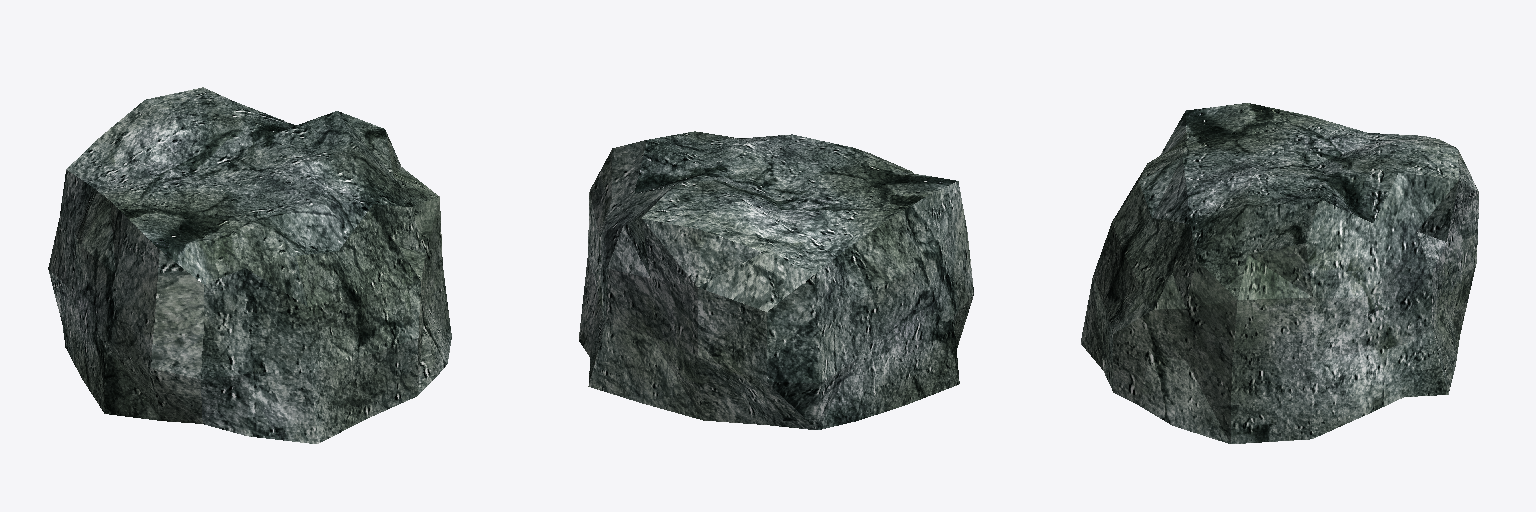
The picture shows the model from 3 angles: view 1: azimuth 30°, elevation 25°; view 2: azimuth 150°, elevation 25°; view 3: azimuth 270°, elevation 25°; orthographic projection.
Visible parts, largest first — view 1: rock:polySurface64 rock:polySurface65 rock:polySurface66 rock:po; view 2: rock:polySurface64 rock:polySurface65 rock:polySurface66 rock:po; view 3: rock:polySurface64 rock:polySurface65 rock:polySurface66 rock:po.
Boxes of the visible parts, box(x1,y1,x2,y2) form: rock:polySurface64 rock:polySurface65 rock:polySurface66 rock:po: box(48, 87, 451, 443); rock:polySurface64 rock:polySurface65 rock:polySurface66 rock:po: box(579, 131, 973, 429); rock:polySurface64 rock:polySurface65 rock:polySurface66 rock:po: box(1081, 103, 1478, 443).
Bounding box in the file's own units: 2.93 × 1.73 × 2.96.
1 materials, 1 textured.